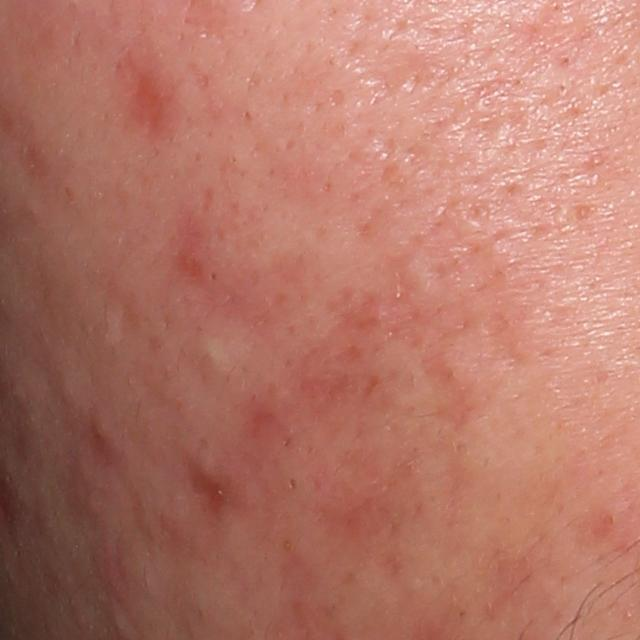atrophic_scar: (335, 24, 468, 107)
comedo: (187, 327, 240, 386)
papule: (347, 296, 400, 336), (87, 416, 122, 459)
